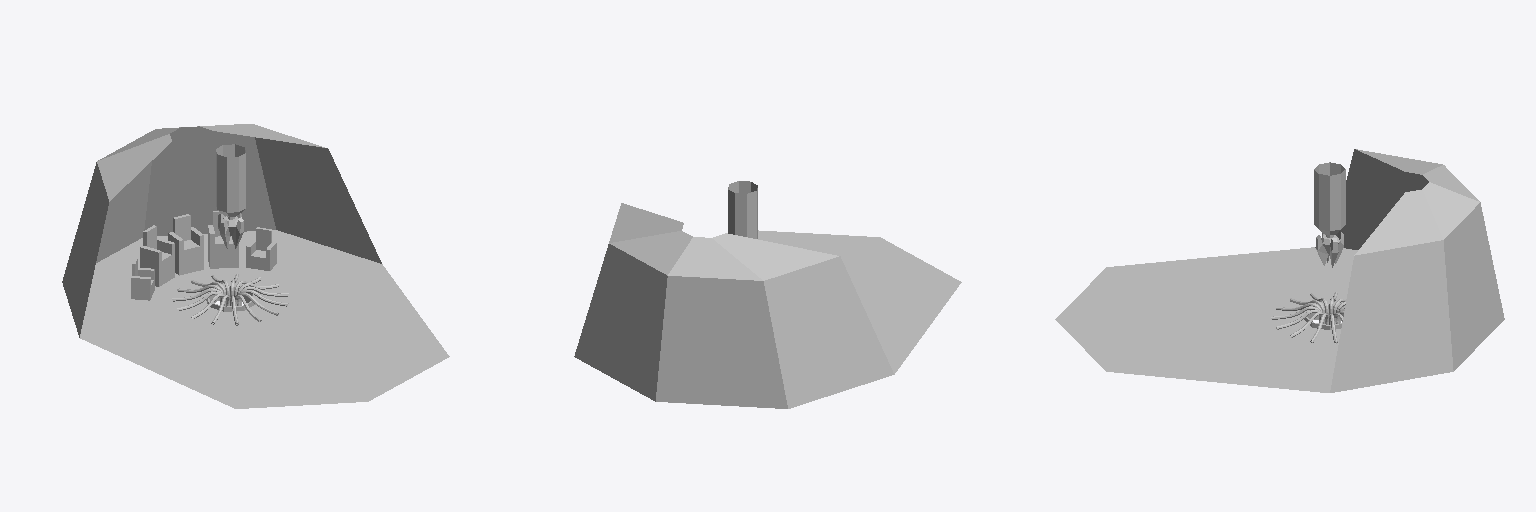
Rendered from FutureSet.obj.
The picture shows the model from 3 angles: view 1: azimuth 30°, elevation 25°; view 2: azimuth 150°, elevation 25°; view 3: azimuth 270°, elevation 25°; orthographic projection.
Parts seen in each view (by area): view 1: pCylinder1, pCylinder2, pCube1, pCube3, pCube2, pCube4, pCube5; view 2: pCylinder1, pCylinder2; view 3: pCylinder1, pCylinder2.
Boxes of the visible parts, x1=… form: pCylinder1: x1=62, y1=124, x2=449, y2=408; pCylinder2: x1=216, y1=144, x2=245, y2=248; pCube1: x1=168, y1=214, x2=203, y2=275; pCube3: x1=140, y1=225, x2=174, y2=286; pCube2: x1=208, y1=211, x2=238, y2=268; pCube4: x1=246, y1=227, x2=276, y2=270; pCube5: x1=131, y1=257, x2=154, y2=300; pCylinder1: x1=574, y1=203, x2=961, y2=408; pCylinder2: x1=728, y1=181, x2=757, y2=238; pCylinder1: x1=1055, y1=149, x2=1504, y2=392; pCylinder2: x1=1314, y1=162, x2=1345, y2=267.
Bounding box in the file's own units: 38.19 × 20.94 × 49.1.